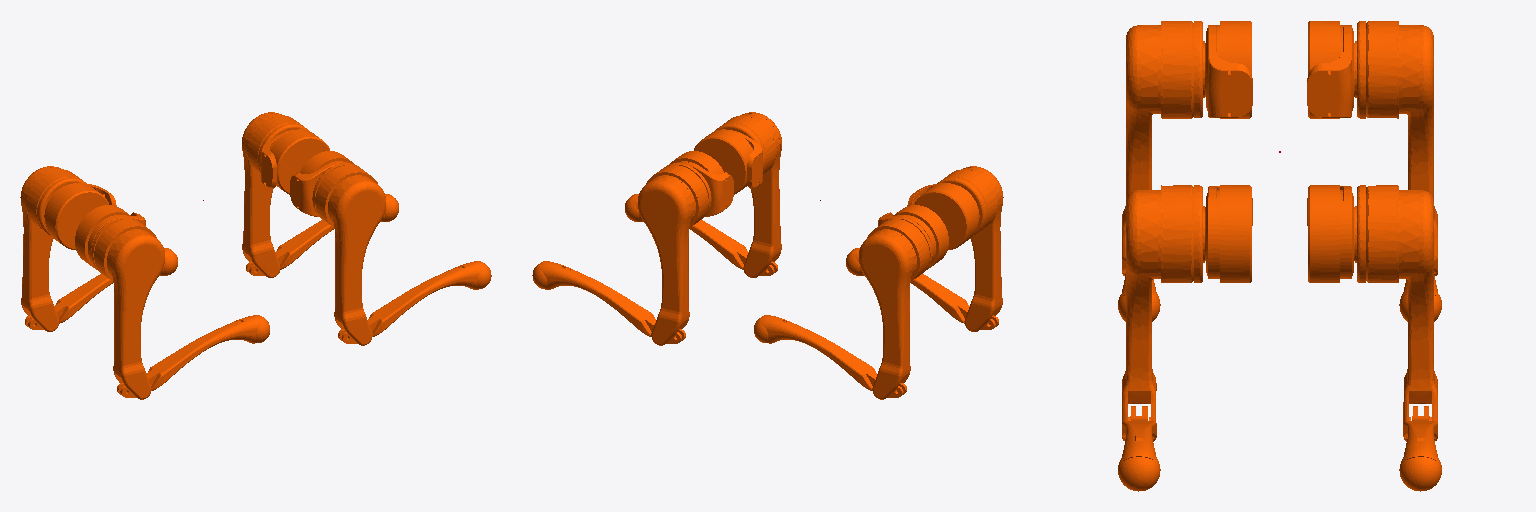
URDF robot description (a1_description):
<?xml version="1.0" ?>
<!-- =================================================================================== -->
<!-- |    This document was autogenerated by xacro from robot.xacro                    | -->
<!-- |    EDITING THIS FILE BY HAND IS NOT RECOMMENDED                                 | -->
<!-- =================================================================================== -->
<robot name="a1_description" xmlns:xacro="http://www.ros.org/wiki/xacro">
  <material name="black">
    <color rgba="0.0 0.0 0.0 1.0"/>
  </material>
  <material name="blue">
    <color rgba="0.0 0.0 0.8 1.0"/>
  </material>
  <material name="green">
    <color rgba="0.0 0.8 0.0 1.0"/>
  </material>
  <material name="grey">
    <color rgba="0.2 0.2 0.2 1.0"/>
  </material>
  <material name="silver">
    <color rgba="0.913725490196 0.913725490196 0.847058823529 1.0"/>
  </material>
  <material name="orange">
    <color rgba="1.0 0.423529411765 0.0392156862745 1.0"/>
  </material>
  <material name="brown">
    <color rgba="0.870588235294 0.811764705882 0.764705882353 1.0"/>
  </material>
  <material name="red">
    <color rgba="0.8 0.0 0.0 1.0"/>
  </material>
  <material name="white">
    <color rgba="1.0 1.0 1.0 1.0"/>
  </material>
  <link name="trunk">
    <visual>
      <origin rpy="0 0 0" xyz="0 0 0"/>
      <geometry>
        <mesh filename="meshes/trunk.obj" scale="1 1 1"/>
      </geometry>
      <material name="orange"/>
    </visual>
    <collision>
      <origin rpy="0 0 0" xyz="0 0 0"/>
      <geometry>
        <box size="0.267 0.194 0.114"/>
      </geometry>
    </collision>
    <inertial>
      <origin rpy="0 0 0" xyz="0.012731 0.002186 0.000515"/>
      <mass value="4.713"/>
      <inertia ixx="0.01683993" ixy="8.3902e-05" ixz="0.000597679" iyy="0.056579028" iyz="2.5134e-05" izz="0.064713601"/>
    </inertial>
  </link>
  <joint name="imu_joint" type="fixed">
    <parent link="trunk"/>
    <child link="imu_link"/>
    <origin rpy="0 0 0" xyz="0 0 0"/>
  </joint>
  <link name="imu_link">
    <inertial>
      <mass value="0.001"/>
      <origin rpy="0 0 0" xyz="0 0 0"/>
      <inertia ixx="0.0001" ixy="0" ixz="0" iyy="0.0001" iyz="0" izz="0.0001"/>
    </inertial>
    <visual>
      <origin rpy="0 0 0" xyz="0 0 0"/>
      <geometry>
        <box size="0.001 0.001 0.001"/>
      </geometry>
      <material name="red"/>
    </visual>
    <collision>
      <origin rpy="0 0 0" xyz="0 0 0"/>
      <geometry>
        <box size=".001 .001 .001"/>
      </geometry>
    </collision>
  </link>
  <joint name="FR_hip_joint" type="revolute">
    <origin rpy="0 0 0" xyz="0.183 -0.047 0"/>
    <parent link="trunk"/>
    <child link="FR_hip"/>
    <axis xyz="1 0 0"/>
    <dynamics damping="0" friction="0"/>
    <limit effort="20" lower="-0.802851455917" upper="0.802851455917" velocity="52.4"/>
  </joint>
  <link name="FR_hip">
    <visual>
      <origin rpy="3.14159265359 0 0" xyz="0 0 0"/>
      <geometry>
        <mesh filename="meshes/hip.obj" scale="1 1 1"/>
      </geometry>
      <material name="orange"/>
    </visual>
    <collision>
      <origin rpy="1.57079632679 0 0" xyz="0 0 0"/>
      <geometry>
        <cylinder length="0.04" radius="0.046"/>
      </geometry>
    </collision>
    <inertial>
      <origin rpy="0 0 0" xyz="-0.003311 -0.000635 3.1e-05"/>
      <mass value="0.696"/>
      <inertia ixx="0.000469246" ixy="9.409e-06" ixz="-3.42e-07" iyy="0.00080749" iyz="4.66e-07" izz="0.000552929"/>
    </inertial>
  </link>
  <joint name="FR_hip_fixed" type="fixed">
    <origin rpy="0 0 0" xyz="0 -0.081 0"/>
    <parent link="FR_hip"/>
    <child link="FR_upper_shoulder"/>
  </joint>
  <!-- this link is only for collision -->
  <link name="FR_upper_shoulder">
    <inertial>
      <mass value="0.001"/>
      <origin rpy="0 0 0" xyz="0 0 0"/>
      <inertia ixx="0.0001" ixy="0" ixz="0" iyy="0.0001" iyz="0" izz="0.0001"/>
    </inertial>
    <collision>
      <origin rpy="1.57079632679 0 0" xyz="0 0 0"/>
      <geometry>
        <cylinder length="0.032" radius="0.041"/>
      </geometry>
    </collision>
  </link>
  <joint name="FR_upper_joint" type="revolute">
    <origin rpy="0 0 0" xyz="0 -0.08505 0"/>
    <parent link="FR_hip"/>
    <child link="FR_upper"/>
    <axis xyz="0 1 0"/>
    <dynamics damping="0" friction="0"/>
    <limit effort="55" lower="-1.0471975512" upper="4.18879020479" velocity="28.6"/>
  </joint>
  <link name="FR_upper">
    <visual>
      <origin rpy="0 0 0" xyz="0 0 0"/>
      <geometry>
        <mesh filename="meshes/thigh_mirror.obj" scale="1 1 1"/>
      </geometry>
      <material name="orange"/>
    </visual>
    <collision>
      <origin rpy="0 1.57079632679 0" xyz="0 0 -0.1"/>
      <geometry>
        <box size="0.2 0.0245 0.034"/>
      </geometry>
    </collision>
    <inertial>
      <origin rpy="0 0 0" xyz="-0.003237 0.022327 -0.027326"/>
      <mass value="1.013"/>
      <inertia ixx="0.005529065" ixy="-4.825e-06" ixz="0.000343869" iyy="0.005139339" iyz="-2.2448e-05" izz="0.001367788"/>
    </inertial>
  </link>
  <joint name="FR_lower_joint" type="revolute">
    <origin rpy="0 0 0" xyz="0 0 -0.2"/>
    <parent link="FR_upper"/>
    <child link="FR_lower"/>
    <axis xyz="0 1 0"/>
    <dynamics damping="0" friction="0"/>
    <limit effort="55" lower="-2.69653369433" upper="-0.916297857297" velocity="28.6"/>
  </joint>
  <link name="FR_lower">
    <visual>
      <origin rpy="0 0 0" xyz="0 0 0"/>
      <geometry>
        <mesh filename="meshes/calf.obj" scale="1 1 1"/>
      </geometry>
      <material name="orange"/>
    </visual>
    <collision>
      <origin rpy="0 1.57079632679 0" xyz="0 0 -0.1"/>
      <geometry>
        <box size="0.2 0.016 0.016"/>
      </geometry>
    </collision>
    <inertial>
      <origin rpy="0 0 0" xyz="0.006435 0.0 -0.107388"/>
      <mass value="0.166"/>
      <inertia ixx="0.002997972" ixy="0.0" ixz="-0.000141163" iyy="0.003014022" iyz="0.0" izz="3.2426e-05"/>
    </inertial>
  </link>
  <joint name="FR_toe_fixed" type="fixed">
    <origin rpy="0 0 0" xyz="0 0 -0.2"/>
    <parent link="FR_lower"/>
    <child link="FR_toe"/>
  </joint>
  <link name="FR_toe">
    <visual>
      <origin rpy="0 0 0" xyz="0 0 0"/>
      <geometry>
        <sphere radius="0.01"/>
      </geometry>
      <material name="orange"/>
    </visual>
    <collision>
      <origin rpy="0 0 0" xyz="0 0 0"/>
      <geometry>
        <sphere radius="0.02"/>
      </geometry>
    </collision>
    <inertial>
      <mass value="0.06"/>
      <inertia ixx="9.6e-06" ixy="0.0" ixz="0.0" iyy="9.6e-06" iyz="0.0" izz="9.6e-06"/>
    </inertial>
  </link>
  <transmission name="FR_hip_tran">
    <type>transmission_interface/SimpleTransmission</type>
    <joint name="FR_hip_joint">
      <hardwareInterface>hardware_interface/EffortJointInterface</hardwareInterface>
    </joint>
    <actuator name="FR_hip_motor">
      <hardwareInterface>hardware_interface/EffortJointInterface</hardwareInterface>
      <mechanicalReduction>1</mechanicalReduction>
    </actuator>
  </transmission>
  <transmission name="FR_upper_tran">
    <type>transmission_interface/SimpleTransmission</type>
    <joint name="FR_upper_joint">
      <hardwareInterface>hardware_interface/EffortJointInterface</hardwareInterface>
    </joint>
    <actuator name="FR_upper_motor">
      <hardwareInterface>hardware_interface/EffortJointInterface</hardwareInterface>
      <mechanicalReduction>1</mechanicalReduction>
    </actuator>
  </transmission>
  <transmission name="FR_lower_tran">
    <type>transmission_interface/SimpleTransmission</type>
    <joint name="FR_lower_joint">
      <hardwareInterface>hardware_interface/EffortJointInterface</hardwareInterface>
    </joint>
    <actuator name="FR_lower_motor">
      <hardwareInterface>hardware_interface/EffortJointInterface</hardwareInterface>
      <mechanicalReduction>1</mechanicalReduction>
    </actuator>
  </transmission>
  <joint name="FL_hip_joint" type="revolute">
    <origin rpy="0 0 0" xyz="0.183 0.047 0"/>
    <parent link="trunk"/>
    <child link="FL_hip"/>
    <axis xyz="1 0 0"/>
    <dynamics damping="0" friction="0"/>
    <limit effort="20" lower="-0.802851455917" upper="0.802851455917" velocity="52.4"/>
  </joint>
  <link name="FL_hip">
    <visual>
      <origin rpy="0 0 0" xyz="0 0 0"/>
      <geometry>
        <mesh filename="meshes/hip.obj" scale="1 1 1"/>
      </geometry>
      <material name="orange"/>
    </visual>
    <collision>
      <origin rpy="1.57079632679 0 0" xyz="0 0 0"/>
      <geometry>
        <cylinder length="0.04" radius="0.046"/>
      </geometry>
    </collision>
    <inertial>
      <origin rpy="0 0 0" xyz="-0.003311 0.000635 3.1e-05"/>
      <mass value="0.696"/>
      <inertia ixx="0.000469246" ixy="-9.409e-06" ixz="-3.42e-07" iyy="0.00080749" iyz="-4.66e-07" izz="0.000552929"/>
    </inertial>
  </link>
  <joint name="FL_hip_fixed" type="fixed">
    <origin rpy="0 0 0" xyz="0 0.081 0"/>
    <parent link="FL_hip"/>
    <child link="FL_upper_shoulder"/>
  </joint>
  <!-- this link is only for collision -->
  <link name="FL_upper_shoulder">
    <inertial>
      <mass value="0.001"/>
      <origin rpy="0 0 0" xyz="0 0 0"/>
      <inertia ixx="0.0001" ixy="0" ixz="0" iyy="0.0001" iyz="0" izz="0.0001"/>
    </inertial>
    <collision>
      <origin rpy="1.57079632679 0 0" xyz="0 0 0"/>
      <geometry>
        <cylinder length="0.032" radius="0.041"/>
      </geometry>
    </collision>
  </link>
  <joint name="FL_upper_joint" type="revolute">
    <origin rpy="0 0 0" xyz="0 0.08505 0"/>
    <parent link="FL_hip"/>
    <child link="FL_upper"/>
    <axis xyz="0 1 0"/>
    <dynamics damping="0" friction="0"/>
    <limit effort="55" lower="-1.0471975512" upper="4.18879020479" velocity="28.6"/>
  </joint>
  <link name="FL_upper">
    <visual>
      <origin rpy="0 0 0" xyz="0 0 0"/>
      <geometry>
        <mesh filename="meshes/thigh.obj" scale="1 1 1"/>
      </geometry>
      <material name="orange"/>
    </visual>
    <collision>
      <origin rpy="0 1.57079632679 0" xyz="0 0 -0.1"/>
      <geometry>
        <box size="0.2 0.0245 0.034"/>
      </geometry>
    </collision>
    <inertial>
      <origin rpy="0 0 0" xyz="-0.003237 -0.022327 -0.027326"/>
      <mass value="1.013"/>
      <inertia ixx="0.005529065" ixy="4.825e-06" ixz="0.000343869" iyy="0.005139339" iyz="2.2448e-05" izz="0.001367788"/>
    </inertial>
  </link>
  <joint name="FL_lower_joint" type="revolute">
    <origin rpy="0 0 0" xyz="0 0 -0.2"/>
    <parent link="FL_upper"/>
    <child link="FL_lower"/>
    <axis xyz="0 1 0"/>
    <dynamics damping="0" friction="0"/>
    <limit effort="55" lower="-2.69653369433" upper="-0.916297857297" velocity="28.6"/>
  </joint>
  <link name="FL_lower">
    <visual>
      <origin rpy="0 0 0" xyz="0 0 0"/>
      <geometry>
        <mesh filename="meshes/calf.obj" scale="1 1 1"/>
      </geometry>
      <material name="orange"/>
    </visual>
    <collision>
      <origin rpy="0 1.57079632679 0" xyz="0 0 -0.1"/>
      <geometry>
        <box size="0.2 0.016 0.016"/>
      </geometry>
    </collision>
    <inertial>
      <origin rpy="0 0 0" xyz="0.006435 0.0 -0.107388"/>
      <mass value="0.166"/>
      <inertia ixx="0.002997972" ixy="0.0" ixz="-0.000141163" iyy="0.003014022" iyz="0.0" izz="3.2426e-05"/>
    </inertial>
  </link>
  <joint name="FL_toe_fixed" type="fixed">
    <origin rpy="0 0 0" xyz="0 0 -0.2"/>
    <parent link="FL_lower"/>
    <child link="FL_toe"/>
  </joint>
  <link name="FL_toe">
    <visual>
      <origin rpy="0 0 0" xyz="0 0 0"/>
      <geometry>
        <sphere radius="0.01"/>
      </geometry>
      <material name="orange"/>
    </visual>
    <collision>
      <origin rpy="0 0 0" xyz="0 0 0"/>
      <geometry>
        <sphere radius="0.02"/>
      </geometry>
    </collision>
    <inertial>
      <mass value="0.06"/>
      <inertia ixx="9.6e-06" ixy="0.0" ixz="0.0" iyy="9.6e-06" iyz="0.0" izz="9.6e-06"/>
    </inertial>
  </link>
  <transmission name="FL_hip_tran">
    <type>transmission_interface/SimpleTransmission</type>
    <joint name="FL_hip_joint">
      <hardwareInterface>hardware_interface/EffortJointInterface</hardwareInterface>
    </joint>
    <actuator name="FL_hip_motor">
      <hardwareInterface>hardware_interface/EffortJointInterface</hardwareInterface>
      <mechanicalReduction>1</mechanicalReduction>
    </actuator>
  </transmission>
  <transmission name="FL_upper_tran">
    <type>transmission_interface/SimpleTransmission</type>
    <joint name="FL_upper_joint">
      <hardwareInterface>hardware_interface/EffortJointInterface</hardwareInterface>
    </joint>
    <actuator name="FL_upper_motor">
      <hardwareInterface>hardware_interface/EffortJointInterface</hardwareInterface>
      <mechanicalReduction>1</mechanicalReduction>
    </actuator>
  </transmission>
  <transmission name="FL_lower_tran">
    <type>transmission_interface/SimpleTransmission</type>
    <joint name="FL_lower_joint">
      <hardwareInterface>hardware_interface/EffortJointInterface</hardwareInterface>
    </joint>
    <actuator name="FL_lower_motor">
      <hardwareInterface>hardware_interface/EffortJointInterface</hardwareInterface>
      <mechanicalReduction>1</mechanicalReduction>
    </actuator>
  </transmission>
  <joint name="RR_hip_joint" type="revolute">
    <origin rpy="0 0 0" xyz="-0.183 -0.047 0"/>
    <parent link="trunk"/>
    <child link="RR_hip"/>
    <axis xyz="1 0 0"/>
    <dynamics damping="0" friction="0"/>
    <limit effort="20" lower="-0.802851455917" upper="0.802851455917" velocity="52.4"/>
  </joint>
  <link name="RR_hip">
    <visual>
      <origin rpy="3.14159265359 3.14159265359 0" xyz="0 0 0"/>
      <geometry>
        <mesh filename="meshes/hip.obj" scale="1 1 1"/>
      </geometry>
      <material name="orange"/>
    </visual>
    <collision>
      <origin rpy="1.57079632679 0 0" xyz="0 0 0"/>
      <geometry>
        <cylinder length="0.04" radius="0.046"/>
      </geometry>
    </collision>
    <inertial>
      <origin rpy="0 0 0" xyz="0.003311 -0.000635 3.1e-05"/>
      <mass value="0.696"/>
      <inertia ixx="0.000469246" ixy="-9.409e-06" ixz="3.42e-07" iyy="0.00080749" iyz="4.66e-07" izz="0.000552929"/>
    </inertial>
  </link>
  <joint name="RR_hip_fixed" type="fixed">
    <origin rpy="0 0 0" xyz="0 -0.081 0"/>
    <parent link="RR_hip"/>
    <child link="RR_upper_shoulder"/>
  </joint>
  <!-- this link is only for collision -->
  <link name="RR_upper_shoulder">
    <inertial>
      <mass value="0.001"/>
      <origin rpy="0 0 0" xyz="0 0 0"/>
      <inertia ixx="0.0001" ixy="0" ixz="0" iyy="0.0001" iyz="0" izz="0.0001"/>
    </inertial>
    <collision>
      <origin rpy="1.57079632679 0 0" xyz="0 0 0"/>
      <geometry>
        <cylinder length="0.032" radius="0.041"/>
      </geometry>
    </collision>
  </link>
  <joint name="RR_upper_joint" type="revolute">
    <origin rpy="0 0 0" xyz="0 -0.08505 0"/>
    <parent link="RR_hip"/>
    <child link="RR_upper"/>
    <axis xyz="0 1 0"/>
    <dynamics damping="0" friction="0"/>
    <limit effort="55" lower="-1.0471975512" upper="4.18879020479" velocity="28.6"/>
  </joint>
  <link name="RR_upper">
    <visual>
      <origin rpy="0 0 0" xyz="0 0 0"/>
      <geometry>
        <mesh filename="meshes/thigh_mirror.obj" scale="1 1 1"/>
      </geometry>
      <material name="orange"/>
    </visual>
    <collision>
      <origin rpy="0 1.57079632679 0" xyz="0 0 -0.1"/>
      <geometry>
        <box size="0.2 0.0245 0.034"/>
      </geometry>
    </collision>
    <inertial>
      <origin rpy="0 0 0" xyz="-0.003237 0.022327 -0.027326"/>
      <mass value="1.013"/>
      <inertia ixx="0.005529065" ixy="-4.825e-06" ixz="0.000343869" iyy="0.005139339" iyz="-2.2448e-05" izz="0.001367788"/>
    </inertial>
  </link>
  <joint name="RR_lower_joint" type="revolute">
    <origin rpy="0 0 0" xyz="0 0 -0.2"/>
    <parent link="RR_upper"/>
    <child link="RR_lower"/>
    <axis xyz="0 1 0"/>
    <dynamics damping="0" friction="0"/>
    <limit effort="55" lower="-2.69653369433" upper="-0.916297857297" velocity="28.6"/>
  </joint>
  <link name="RR_lower">
    <visual>
      <origin rpy="0 0 0" xyz="0 0 0"/>
      <geometry>
        <mesh filename="meshes/calf.obj" scale="1 1 1"/>
      </geometry>
      <material name="orange"/>
    </visual>
    <collision>
      <origin rpy="0 1.57079632679 0" xyz="0 0 -0.1"/>
      <geometry>
        <box size="0.2 0.016 0.016"/>
      </geometry>
    </collision>
    <inertial>
      <origin rpy="0 0 0" xyz="0.006435 0.0 -0.107388"/>
      <mass value="0.166"/>
      <inertia ixx="0.002997972" ixy="0.0" ixz="-0.000141163" iyy="0.003014022" iyz="0.0" izz="3.2426e-05"/>
    </inertial>
  </link>
  <joint name="RR_toe_fixed" type="fixed">
    <origin rpy="0 0 0" xyz="0 0 -0.2"/>
    <parent link="RR_lower"/>
    <child link="RR_toe"/>
  </joint>
  <link name="RR_toe">
    <visual>
      <origin rpy="0 0 0" xyz="0 0 0"/>
      <geometry>
        <sphere radius="0.01"/>
      </geometry>
      <material name="orange"/>
    </visual>
    <collision>
      <origin rpy="0 0 0" xyz="0 0 0"/>
      <geometry>
        <sphere radius="0.02"/>
      </geometry>
    </collision>
    <inertial>
      <mass value="0.06"/>
      <inertia ixx="9.6e-06" ixy="0.0" ixz="0.0" iyy="9.6e-06" iyz="0.0" izz="9.6e-06"/>
    </inertial>
  </link>
  <transmission name="RR_hip_tran">
    <type>transmission_interface/SimpleTransmission</type>
    <joint name="RR_hip_joint">
      <hardwareInterface>hardware_interface/EffortJointInterface</hardwareInterface>
    </joint>
    <actuator name="RR_hip_motor">
      <hardwareInterface>hardware_interface/EffortJointInterface</hardwareInterface>
      <mechanicalReduction>1</mechanicalReduction>
    </actuator>
  </transmission>
  <transmission name="RR_upper_tran">
    <type>transmission_interface/SimpleTransmission</type>
    <joint name="RR_upper_joint">
      <hardwareInterface>hardware_interface/EffortJointInterface</hardwareInterface>
    </joint>
    <actuator name="RR_upper_motor">
      <hardwareInterface>hardware_interface/EffortJointInterface</hardwareInterface>
      <mechanicalReduction>1</mechanicalReduction>
    </actuator>
  </transmission>
  <transmission name="RR_lower_tran">
    <type>transmission_interface/SimpleTransmission</type>
    <joint name="RR_lower_joint">
      <hardwareInterface>hardware_interface/EffortJointInterface</hardwareInterface>
    </joint>
    <actuator name="RR_lower_motor">
      <hardwareInterface>hardware_interface/EffortJointInterface</hardwareInterface>
      <mechanicalReduction>1</mechanicalReduction>
    </actuator>
  </transmission>
  <joint name="RL_hip_joint" type="revolute">
    <origin rpy="0 0 0" xyz="-0.183 0.047 0"/>
    <parent link="trunk"/>
    <child link="RL_hip"/>
    <axis xyz="1 0 0"/>
    <dynamics damping="0" friction="0"/>
    <limit effort="20" lower="-0.802851455917" upper="0.802851455917" velocity="52.4"/>
  </joint>
  <link name="RL_hip">
    <visual>
      <origin rpy="0 3.14159265359 0" xyz="0 0 0"/>
      <geometry>
        <mesh filename="meshes/hip.obj" scale="1 1 1"/>
      </geometry>
      <material name="orange"/>
    </visual>
    <collision>
      <origin rpy="1.57079632679 0 0" xyz="0 0 0"/>
      <geometry>
        <cylinder length="0.04" radius="0.046"/>
      </geometry>
    </collision>
    <inertial>
      <origin rpy="0 0 0" xyz="0.003311 0.000635 3.1e-05"/>
      <mass value="0.696"/>
      <inertia ixx="0.000469246" ixy="9.409e-06" ixz="3.42e-07" iyy="0.00080749" iyz="-4.66e-07" izz="0.000552929"/>
    </inertial>
  </link>
  <joint name="RL_hip_fixed" type="fixed">
    <origin rpy="0 0 0" xyz="0 0.081 0"/>
    <parent link="RL_hip"/>
    <child link="RL_upper_shoulder"/>
  </joint>
  <!-- this link is only for collision -->
  <link name="RL_upper_shoulder">
    <inertial>
      <mass value="0.001"/>
      <origin rpy="0 0 0" xyz="0 0 0"/>
      <inertia ixx="0.0001" ixy="0" ixz="0" iyy="0.0001" iyz="0" izz="0.0001"/>
    </inertial>
    <collision>
      <origin rpy="1.57079632679 0 0" xyz="0 0 0"/>
      <geometry>
        <cylinder length="0.032" radius="0.041"/>
      </geometry>
    </collision>
  </link>
  <joint name="RL_upper_joint" type="revolute">
    <origin rpy="0 0 0" xyz="0 0.08505 0"/>
    <parent link="RL_hip"/>
    <child link="RL_upper"/>
    <axis xyz="0 1 0"/>
    <dynamics damping="0" friction="0"/>
    <limit effort="55" lower="-1.0471975512" upper="4.18879020479" velocity="28.6"/>
  </joint>
  <link name="RL_upper">
    <visual>
      <origin rpy="0 0 0" xyz="0 0 0"/>
      <geometry>
        <mesh filename="meshes/thigh.obj" scale="1 1 1"/>
      </geometry>
      <material name="orange"/>
    </visual>
    <collision>
      <origin rpy="0 1.57079632679 0" xyz="0 0 -0.1"/>
      <geometry>
        <box size="0.2 0.0245 0.034"/>
      </geometry>
    </collision>
    <inertial>
      <origin rpy="0 0 0" xyz="-0.003237 -0.022327 -0.027326"/>
      <mass value="1.013"/>
      <inertia ixx="0.005529065" ixy="4.825e-06" ixz="0.000343869" iyy="0.005139339" iyz="2.2448e-05" izz="0.001367788"/>
    </inertial>
  </link>
  <joint name="RL_lower_joint" type="revolute">
    <origin rpy="0 0 0" xyz="0 0 -0.2"/>
    <parent link="RL_upper"/>
    <child link="RL_lower"/>
    <axis xyz="0 1 0"/>
    <dynamics damping="0" friction="0"/>
    <limit effort="55" lower="-2.69653369433" upper="-0.916297857297" velocity="28.6"/>
  </joint>
  <link name="RL_lower">
    <visual>
      <origin rpy="0 0 0" xyz="0 0 0"/>
      <geometry>
        <mesh filename="meshes/calf.obj" scale="1 1 1"/>
      </geometry>
      <material name="orange"/>
    </visual>
    <collision>
      <origin rpy="0 1.57079632679 0" xyz="0 0 -0.1"/>
      <geometry>
        <box size="0.2 0.016 0.016"/>
      </geometry>
    </collision>
    <inertial>
      <origin rpy="0 0 0" xyz="0.006435 0.0 -0.107388"/>
      <mass value="0.166"/>
      <inertia ixx="0.002997972" ixy="0.0" ixz="-0.000141163" iyy="0.003014022" iyz="0.0" izz="3.2426e-05"/>
    </inertial>
  </link>
  <joint name="RL_toe_fixed" type="fixed">
    <origin rpy="0 0 0" xyz="0 0 -0.2"/>
    <parent link="RL_lower"/>
    <child link="RL_toe"/>
  </joint>
  <link name="RL_toe">
    <visual>
      <origin rpy="0 0 0" xyz="0 0 0"/>
      <geometry>
        <sphere radius="0.01"/>
      </geometry>
      <material name="orange"/>
    </visual>
    <collision>
      <origin rpy="0 0 0" xyz="0 0 0"/>
      <geometry>
        <sphere radius="0.02"/>
      </geometry>
    </collision>
    <inertial>
      <mass value="0.06"/>
      <inertia ixx="9.6e-06" ixy="0.0" ixz="0.0" iyy="9.6e-06" iyz="0.0" izz="9.6e-06"/>
    </inertial>
  </link>
  <transmission name="RL_hip_tran">
    <type>transmission_interface/SimpleTransmission</type>
    <joint name="RL_hip_joint">
      <hardwareInterface>hardware_interface/EffortJointInterface</hardwareInterface>
    </joint>
    <actuator name="RL_hip_motor">
      <hardwareInterface>hardware_interface/EffortJointInterface</hardwareInterface>
      <mechanicalReduction>1</mechanicalReduction>
    </actuator>
  </transmission>
  <transmission name="RL_upper_tran">
    <type>transmission_interface/SimpleTransmission</type>
    <joint name="RL_upper_joint">
      <hardwareInterface>hardware_interface/EffortJointInterface</hardwareInterface>
    </joint>
    <actuator name="RL_upper_motor">
      <hardwareInterface>hardware_interface/EffortJointInterface</hardwareInterface>
      <mechanicalReduction>1</mechanicalReduction>
    </actuator>
  </transmission>
  <transmission name="RL_lower_tran">
    <type>transmission_interface/SimpleTransmission</type>
    <joint name="RL_lower_joint">
      <hardwareInterface>hardware_interface/EffortJointInterface</hardwareInterface>
    </joint>
    <actuator name="RL_lower_motor">
      <hardwareInterface>hardware_interface/EffortJointInterface</hardwareInterface>
      <mechanicalReduction>1</mechanicalReduction>
    </actuator>
  </transmission>
</robot>

--- What the picture shows (computed from the rendered views, not written in the file) ---
3 views of the same robot in one strip: view 1: azimuth 30°, elevation 25°; view 2: azimuth 150°, elevation 25°; view 3: azimuth 270°, elevation 25° (orthographic).
Model a1_description with 22 links and 21 joints (12 revolute, 9 fixed), rooted at trunk, posed all joints at 0 but 4 set to mid-range because 0 is outside their limits (FR_lower_joint = -1.81, FL_lower_joint = -1.81, RR_lower_joint = -1.81, RL_lower_joint = -1.81).
Visible links, largest first — view 1: FR_upper, RR_upper, RL_upper, FL_upper, FR_lower, RR_lower, FL_hip, RL_hip, FR_hip, RL_lower, FL_lower, RR_hip; view 2: RL_upper, FL_upper, RR_upper, FR_upper, RL_lower, FL_lower, FR_hip, RR_hip, FL_hip, FR_lower, RR_lower, RL_hip; view 3: FL_upper, FR_upper, RR_upper, RL_upper, FR_hip, FL_hip, RR_hip, RL_hip, FR_lower, FL_lower, RL_lower.
Boxes of the visible links, x1,y1,x2,y2 form: FR_upper: (312,163,385,345); RR_upper: (91,217,164,399); RL_upper: (20,166,86,331); FL_upper: (242,112,308,277); FR_lower: (338,261,491,343); RR_lower: (117,315,269,397); FL_hip: (261,129,329,194); RL_hip: (44,183,116,249); FR_hip: (290,151,353,216); RL_lower: (25,248,177,329); FL_lower: (246,194,398,275); RR_hip: (75,205,145,269); RL_upper: (859,217,932,399); FL_upper: (638,163,711,345); RR_upper: (937,166,1003,331); FR_upper: (715,112,781,277); RL_lower: (754,315,906,397); FL_lower: (532,261,685,343); FR_hip: (694,129,762,194); RR_hip: (907,183,979,249); FL_hip: (670,151,733,216); FR_lower: (625,194,777,275); RR_lower: (846,248,998,329); RL_hip: (878,205,948,269); FL_upper: (1355,185,1437,441); FR_upper: (1122,185,1204,441); RR_upper: (1122,21,1204,275); RL_upper: (1355,21,1437,275); FR_hip: (1205,185,1252,282); FL_hip: (1307,185,1354,282); RR_hip: (1205,21,1252,118); RL_hip: (1307,21,1354,118); FR_lower: (1118,406,1160,491); FL_lower: (1399,406,1441,491); RL_lower: (1399,256,1441,321).
Bounding box of the posed robot: 0.6265 × 0.3041 × 0.2595 m (x, y, z).
Meshes: 5 distinct files referenced, 12 mesh visuals loaded (4 OBJ); not drawn: 1 (reference not matched to a file when rendering).
